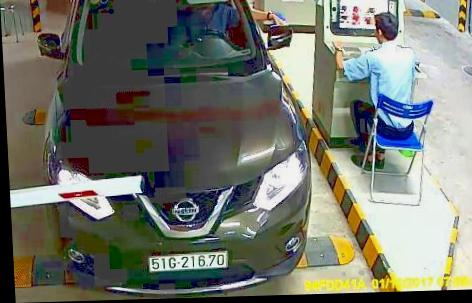License_Plate: (147, 252, 232, 272)
